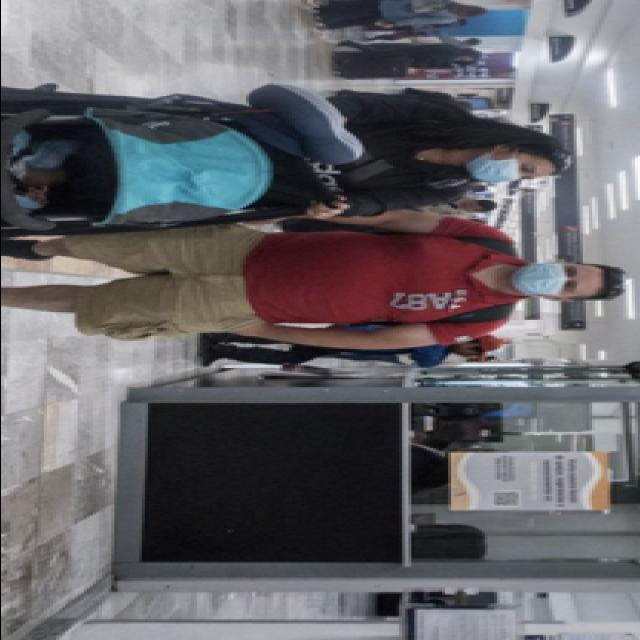mask: (462, 150, 542, 184), (511, 262, 585, 296)
